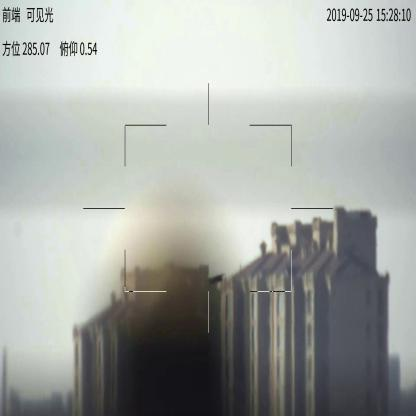uav: (207, 273, 223, 286)
